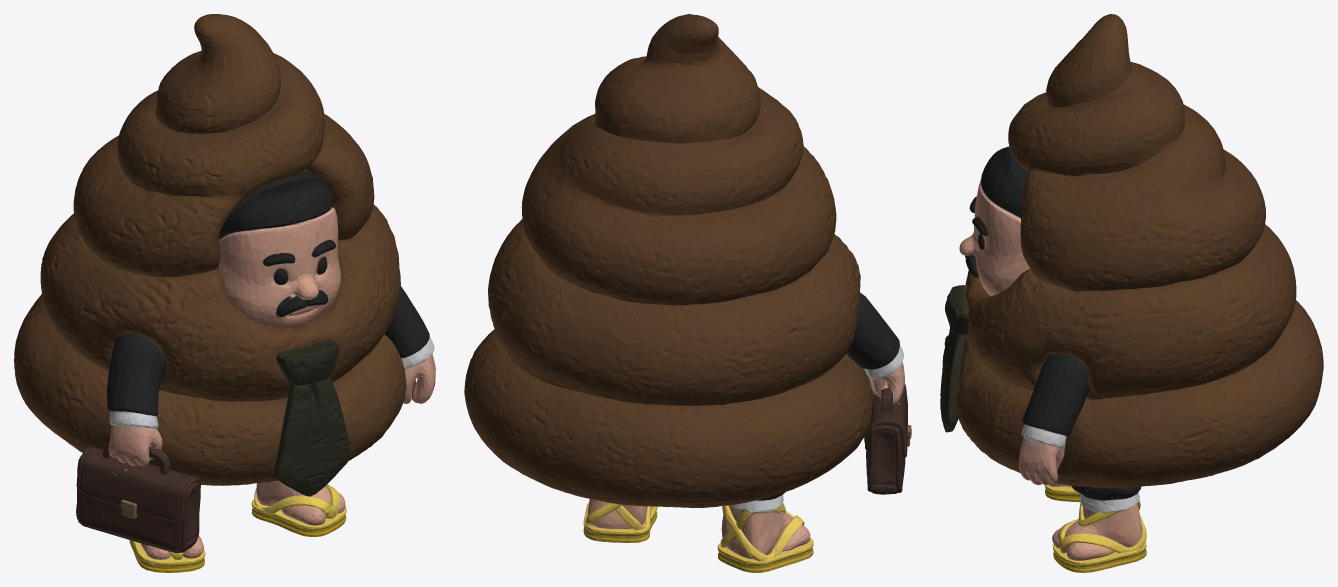
The model's file is poop_out.glb.
3 renders of one model, left to right at view 1: azimuth 30°, elevation 25°; view 2: azimuth 150°, elevation 25°; view 3: azimuth 270°, elevation 25°, orthographic. The views are drawn at different scales.
Parts seen in each view (by area): view 1: meshy_whole; view 2: meshy_whole; view 3: meshy_whole.
Boxes of the visible parts, bbox=[...] form: meshy_whole: bbox=[14, 14, 435, 572]; meshy_whole: bbox=[464, 14, 911, 572]; meshy_whole: bbox=[940, 14, 1323, 572].
Bounding box in the file's own units: 0.7132 × 0.9883 × 0.6845.
1 material, 1 textured.
